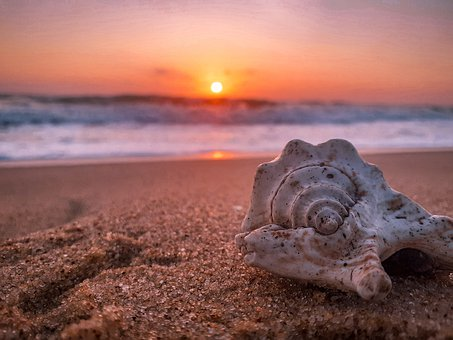beach: (5, 93, 450, 340)
sky: (3, 2, 453, 101)
